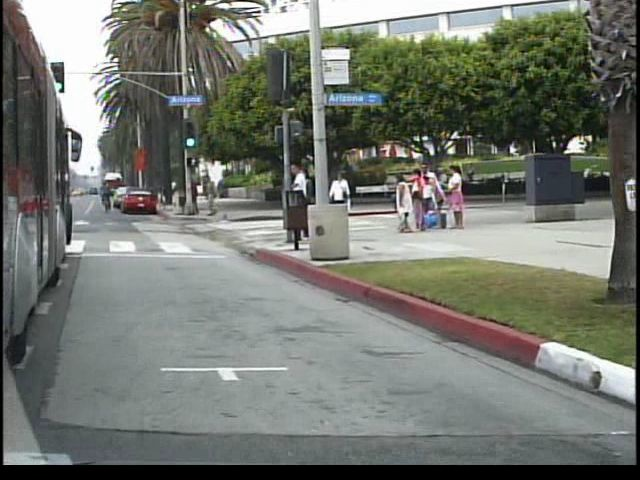person: (288, 158, 315, 244), (336, 168, 357, 237), (206, 172, 226, 219)
